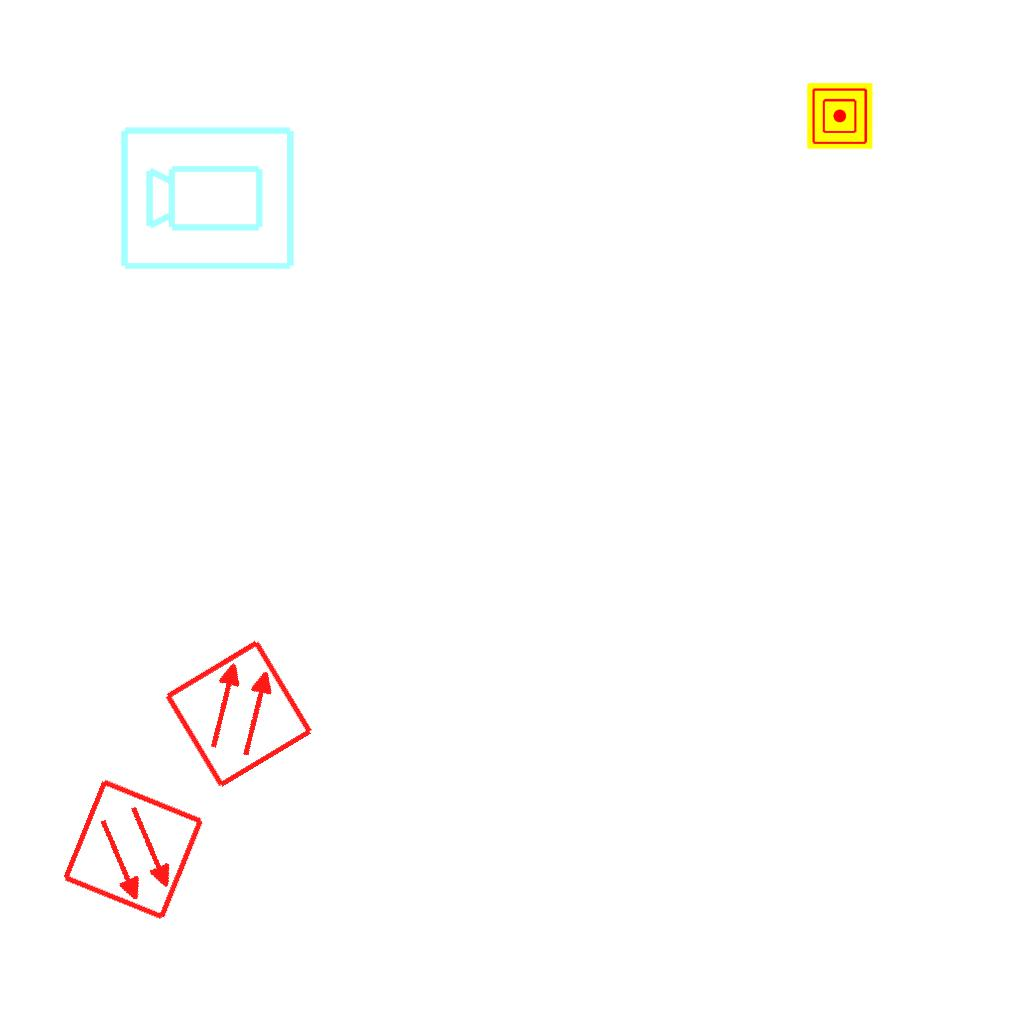KFO_Kamera_mit_Festobjektiv: (117, 120, 299, 274)
NAM-Nichtautomatischer_Melder: (807, 83, 873, 149)
RMO_Rauchmelder_optischer: (160, 635, 317, 792), (59, 775, 208, 924)
